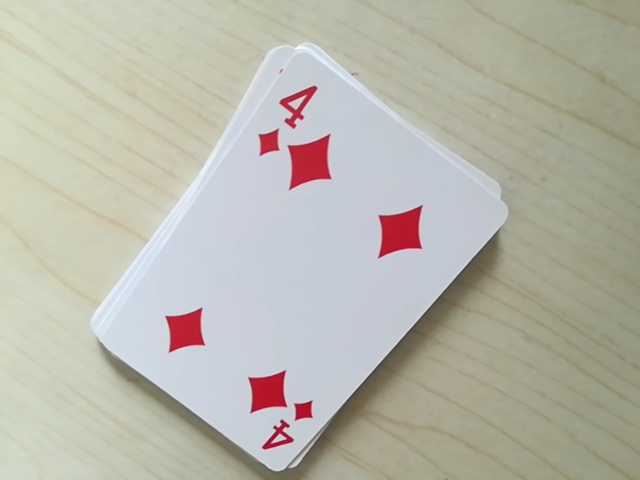fk 4: (250, 68, 327, 167), (251, 398, 319, 460)
